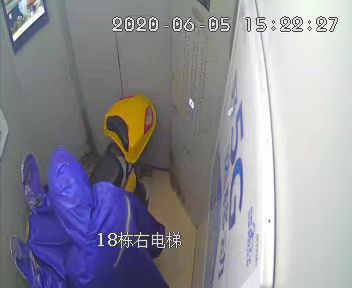Electric-bicycle: (13, 91, 161, 288)
